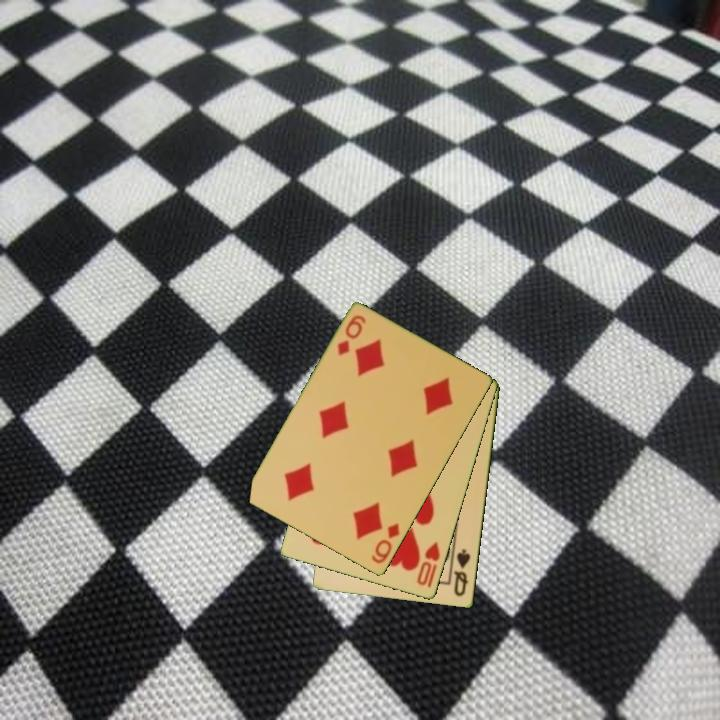10h: (413, 539, 443, 589)
6d: (368, 519, 403, 567), (334, 312, 369, 359)
Qs: (451, 546, 473, 600)
